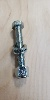FinishedAssembly: (9, 18, 33, 83)
